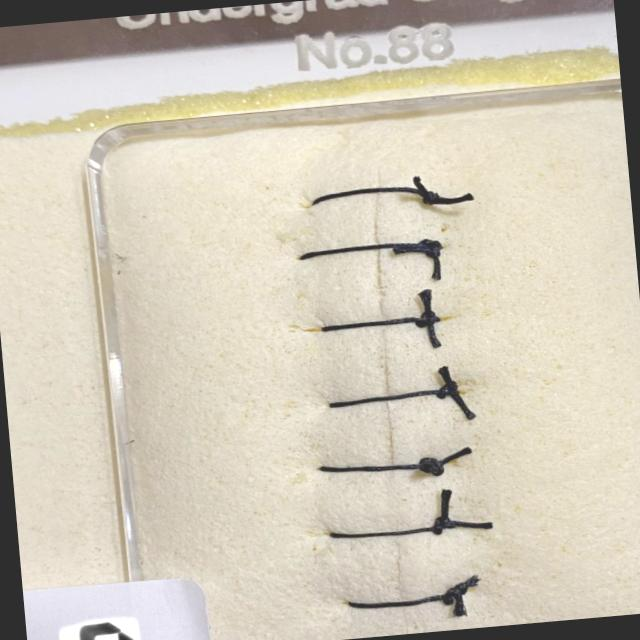knot: (443, 582, 468, 605), (419, 458, 445, 476), (431, 517, 455, 534), (418, 239, 440, 257), (416, 311, 440, 327), (437, 383, 458, 399), (422, 192, 440, 205)
leftover: (446, 387, 476, 422), (428, 446, 475, 468), (448, 572, 482, 596), (425, 244, 441, 283), (425, 315, 442, 349), (410, 173, 433, 198), (427, 193, 476, 204), (438, 363, 454, 393), (437, 486, 448, 527), (420, 287, 432, 324), (436, 521, 498, 528), (451, 590, 465, 620), (388, 244, 429, 254), (417, 462, 433, 474)
stitch: (295, 243, 445, 262), (324, 386, 459, 407), (308, 186, 441, 207), (325, 518, 453, 538), (341, 590, 458, 609), (316, 316, 442, 332), (314, 462, 444, 472)
wound: (370, 162, 411, 634)
